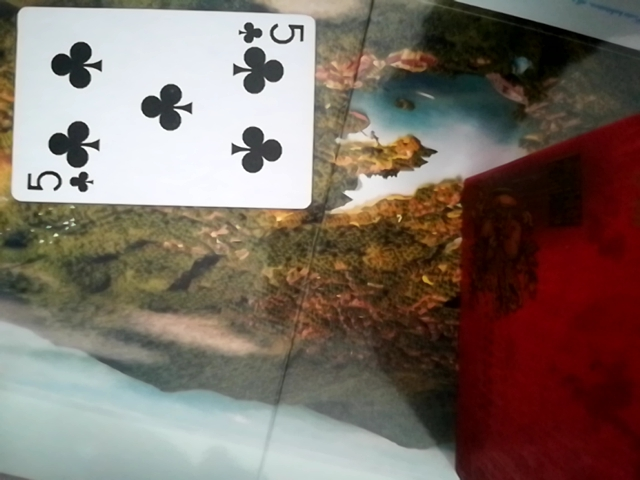mh 5: (7, 4, 316, 213)
